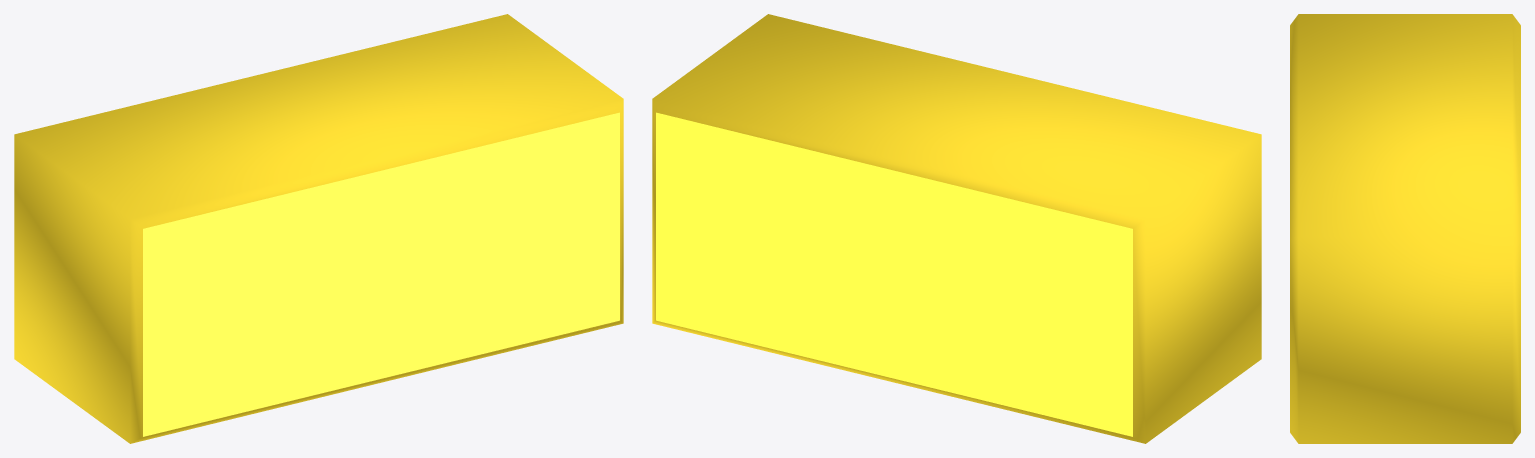
3 views of the same model, side by side, from view 1: azimuth 30°, elevation 25°; view 2: azimuth 150°, elevation 25°; view 3: azimuth 270°, elevation 25° (orthographic). The views are drawn at different scales.
Parts seen in each view (by area): view 1: glyph; view 2: glyph; view 3: glyph.
Part boxes in pixels (left/top/right/bottom): glyph: left=14, top=14, right=623, bottom=443; glyph: left=652, top=14, right=1261, bottom=443; glyph: left=1290, top=14, right=1520, bottom=443.
Size of the model in its own units: 0.0369 by 0.0161 by 0.0162.
